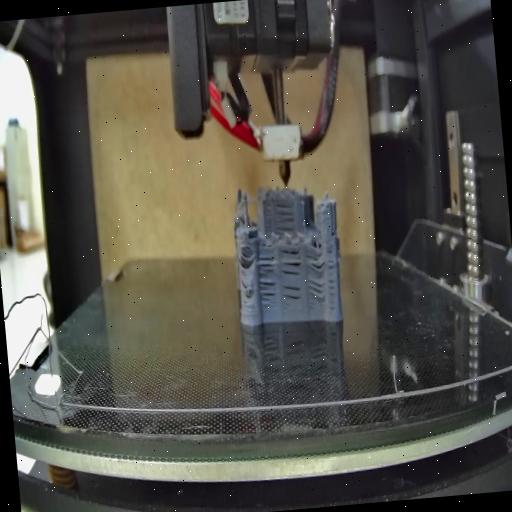cracks: (279, 249, 305, 302), (256, 253, 278, 304), (324, 250, 338, 312), (274, 198, 298, 232), (305, 249, 325, 271), (307, 281, 326, 302), (235, 250, 252, 268), (240, 274, 250, 290), (328, 225, 338, 239)
